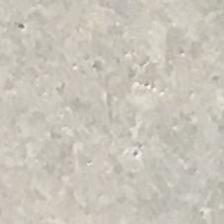Non_Crack: (19, 21, 222, 209)
